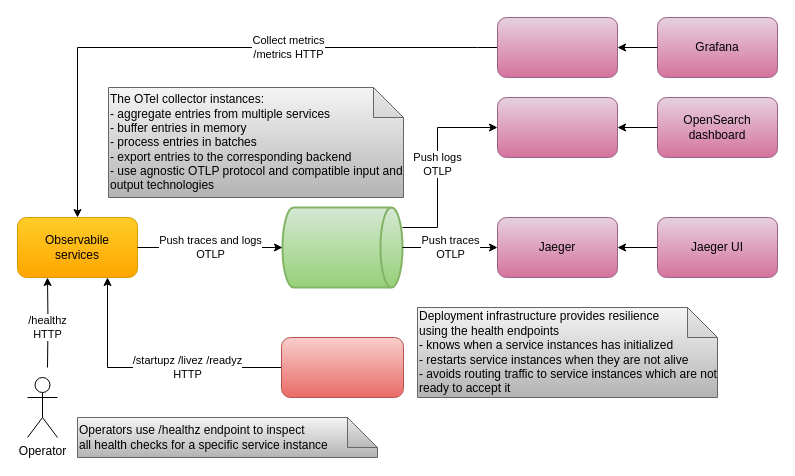
The diagram is 795 pixels wide and 476 high, and some of its shapes have lost their labels. The centre of each missing label's shape, as x and y in pixels:
"Deployment infrastructure" belongs at point 342,367.
"OpenSearch" belongs at point 557,127.
"OTel collector" belongs at point 342,247.
"Prometheus" belongs at point 557,47.
